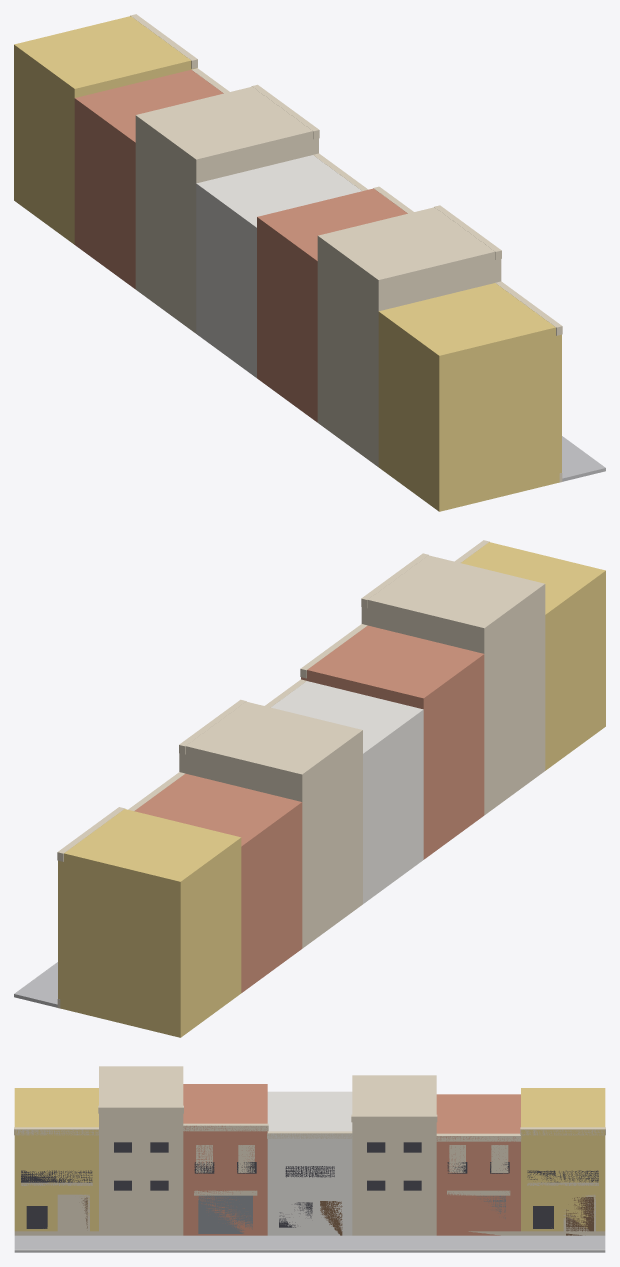
The model's file is SM_Manzana_Juarez_Norte.fbx.
3 views of the same model, one above another, from view 1: azimuth 30°, elevation 25°; view 2: azimuth 150°, elevation 25°; view 3: azimuth 270°, elevation 25° (orthographic). The views are drawn at different scales.
Visible parts, largest first — view 1: Banqueta_Norte; view 2: Banqueta_Norte; view 3: Banqueta_Norte.
Boxes of the visible parts, x1,y1,x2,y2 form: Banqueta_Norte: (14, 14, 605, 511); Banqueta_Norte: (14, 540, 605, 1037); Banqueta_Norte: (14, 1066, 605, 1252).
Size of the model in its own units: 9.5 by 10.21 by 42.1.
